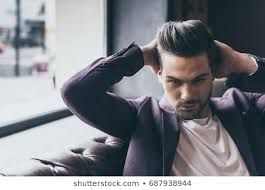white_male: (153, 42, 216, 108)
